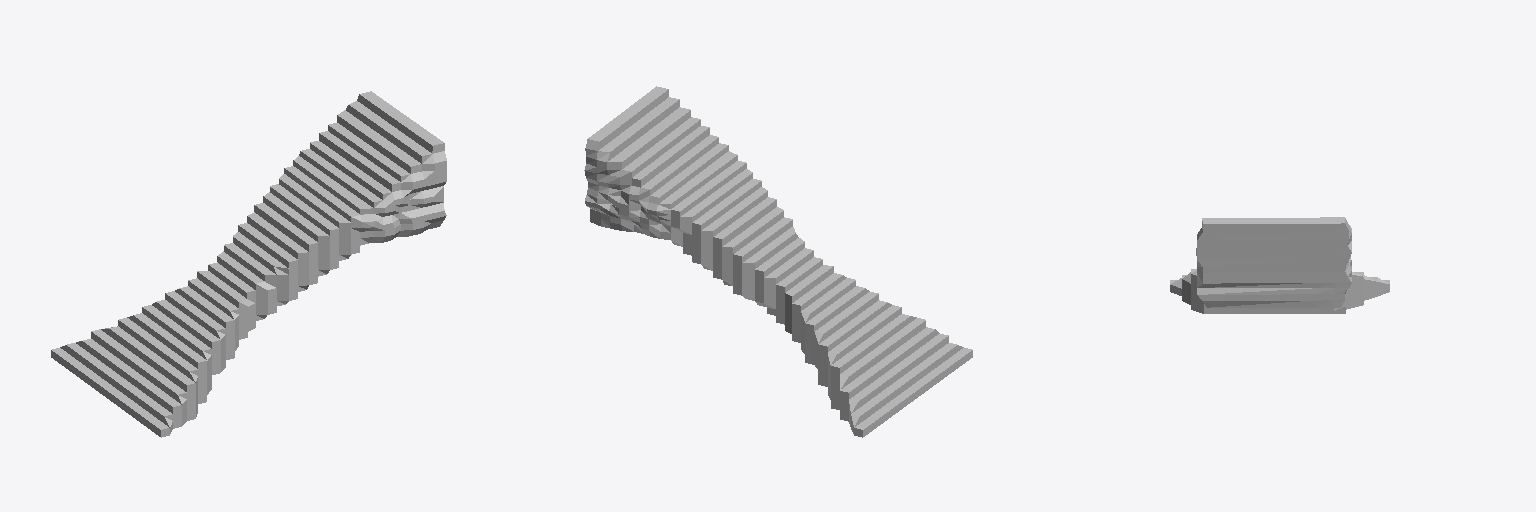
The model's file is platform_base2.obj.
The picture shows the model from 3 angles: view 1: azimuth 30°, elevation 25°; view 2: azimuth 150°, elevation 25°; view 3: azimuth 270°, elevation 25°; orthographic projection.
Parts seen in each view (by area): view 1: Cube_Cube.020_Cube_Cube.020_auv; view 2: Cube_Cube.020_Cube_Cube.020_auv; view 3: Cube_Cube.020_Cube_Cube.020_auv.
Part boxes in pixels (bbox=[...]): Cube_Cube.020_Cube_Cube.020_auv: bbox=[51, 91, 446, 437]; Cube_Cube.020_Cube_Cube.020_auv: bbox=[584, 86, 972, 437]; Cube_Cube.020_Cube_Cube.020_auv: bbox=[1170, 217, 1389, 313].
Size of the model in its own units: 0.884 by 0.5907 by 0.5603.